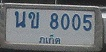txt02: (28, 11, 40, 29)
txt20: (14, 10, 26, 29)
